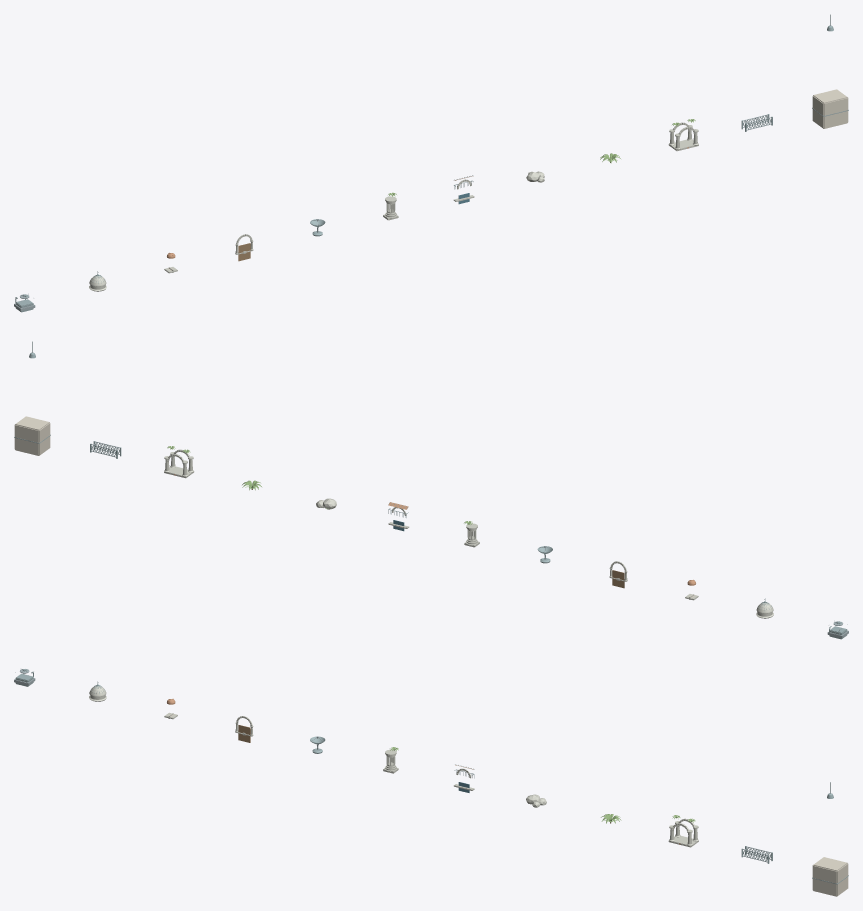
Rendered from crafted.glb.
The picture shows the model from 3 angles, top to bottom: view 1: azimuth 30°, elevation 25°; view 2: azimuth 150°, elevation 25°; view 3: azimuth 330°, elevation 25°; orthographic projection.
Visible parts, largest first — view 1: skyline_tower, roof_arcade; view 2: skyline_tower, roof_arcade; view 3: skyline_tower, roof_arcade.
Boxes of the visible parts, box(x1,y1,x2,y2) form: skyline_tower: box(812, 14, 848, 128); roof_arcade: box(668, 119, 698, 151); skyline_tower: box(14, 341, 50, 455); roof_arcade: box(164, 446, 194, 478); skyline_tower: box(812, 782, 848, 896); roof_arcade: box(668, 815, 698, 847).
Size of the model in its own units: 78.92 by 9.84 by 1.94.
